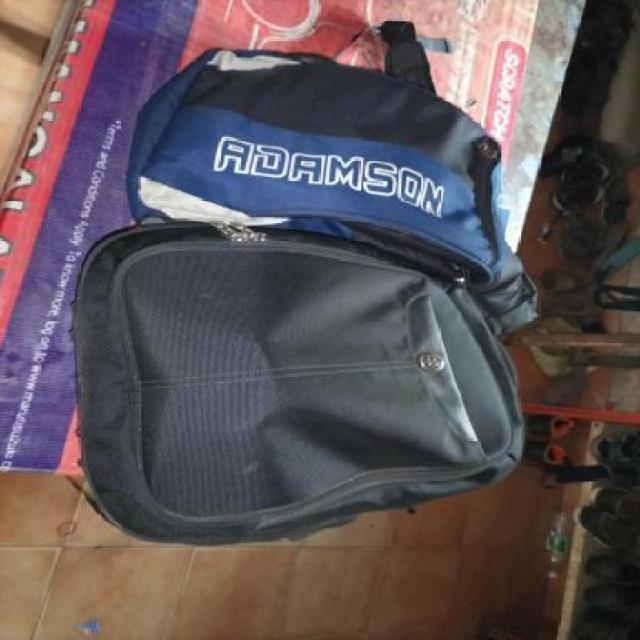backpack: (66, 220, 543, 549), (123, 20, 514, 294)
